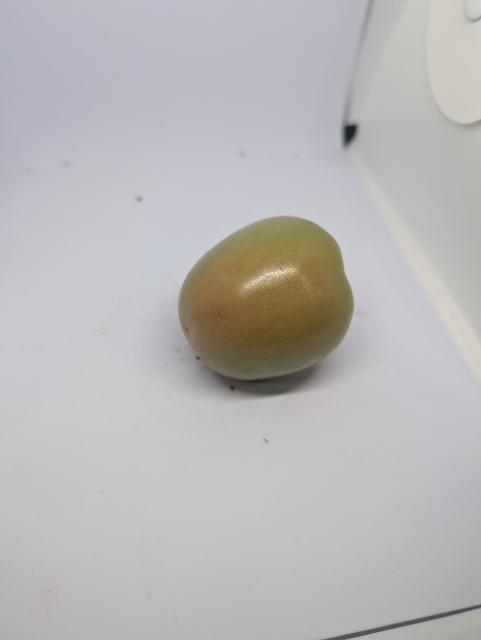turning: (167, 213, 366, 387)
